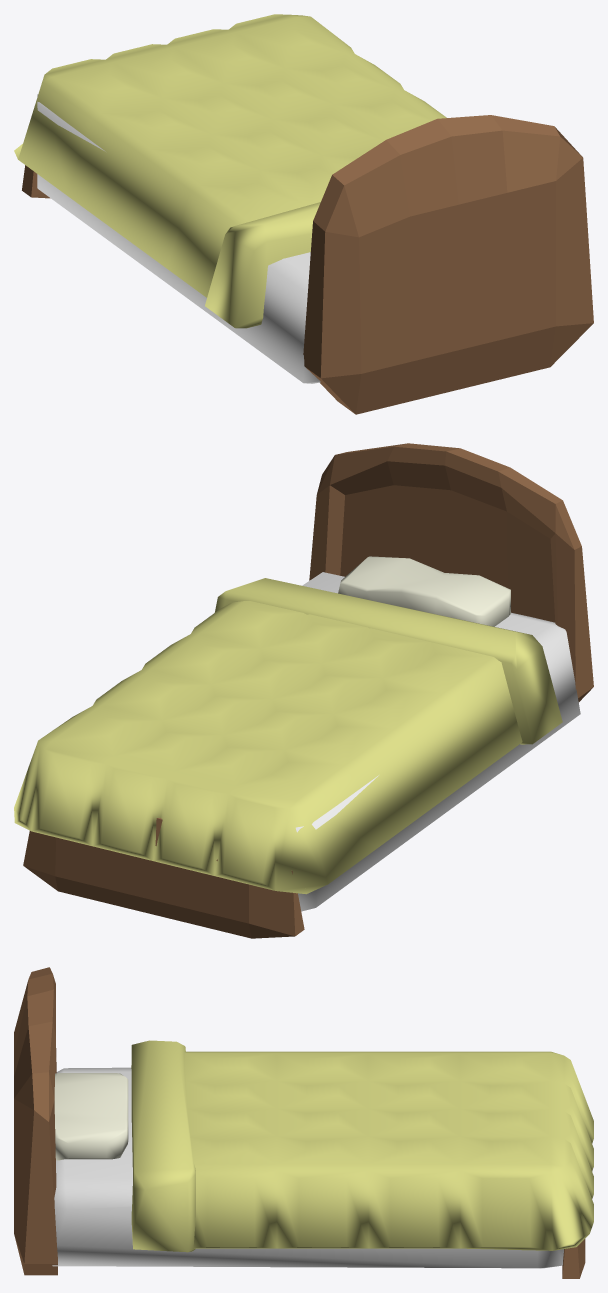
File: single_leaf.fbx
The picture shows the model from 3 angles, top to bottom: view 1: azimuth 30°, elevation 25°; view 2: azimuth 150°, elevation 25°; view 3: azimuth 270°, elevation 25°; orthographic projection. The views are drawn at different scales.
Visible parts, largest first — view 1: Cube.003, Blanket.001, bed.001, blanket bar.001; view 2: Blanket.001, Cube.003, Cube.004, blanket bar.001, bed.001, PILLOW.001; view 3: Blanket.001, bed.001, blanket bar.001, Cube.003, PILLOW.001, Cube.004.
Part boxes in pixels (x1=…): Cube.003: x1=303, y1=115, x2=593, y2=414; Blanket.001: x1=14, y1=14, x2=446, y2=297; bed.001: x1=37, y1=94, x2=320, y2=383; blanket bar.001: x1=205, y1=202, x2=320, y2=328; Blanket.001: x1=14, y1=601, x2=522, y2=894; Cube.003: x1=309, y1=443, x2=593, y2=702; Cube.004: x1=23, y1=818, x2=304, y2=938; blanket bar.001: x1=215, y1=578, x2=562, y2=744; bed.001: x1=295, y1=572, x2=580, y2=911; PILLOW.001: x1=338, y1=556, x2=510, y2=626; Blanket.001: x1=184, y1=1051, x2=593, y2=1250; bed.001: x1=52, y1=1067, x2=563, y2=1268; blanket bar.001: x1=131, y1=1040, x2=195, y2=1252; Cube.003: x1=14, y1=967, x2=57, y2=1275; PILLOW.001: x1=54, y1=1073, x2=128, y2=1160; Cube.004: x1=562, y1=1239, x2=585, y2=1278.
Bounding box in the file's own units: 3017 × 2279 × 4956.
